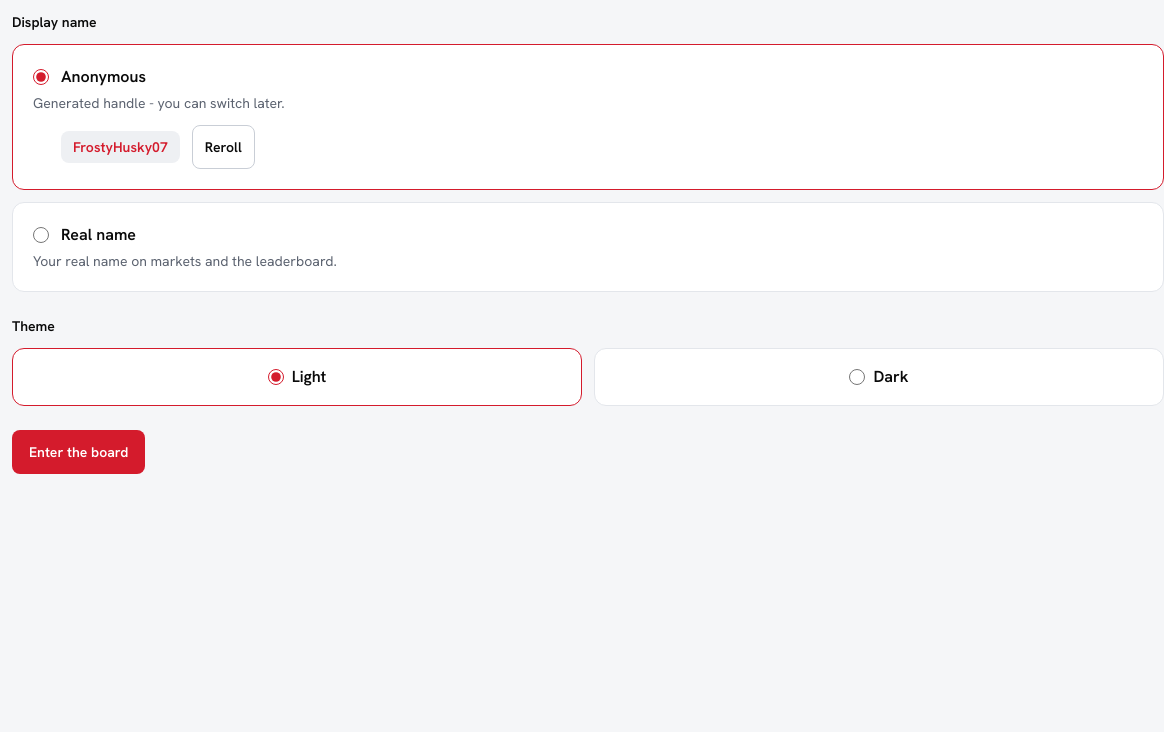
it: OnboardingForm › surfaces a server error and stays put
What coordinates should you click on to do the following:
click the button "Enter the board"
I would click on:
 (79, 452)
Its box is [12,430,145,474].
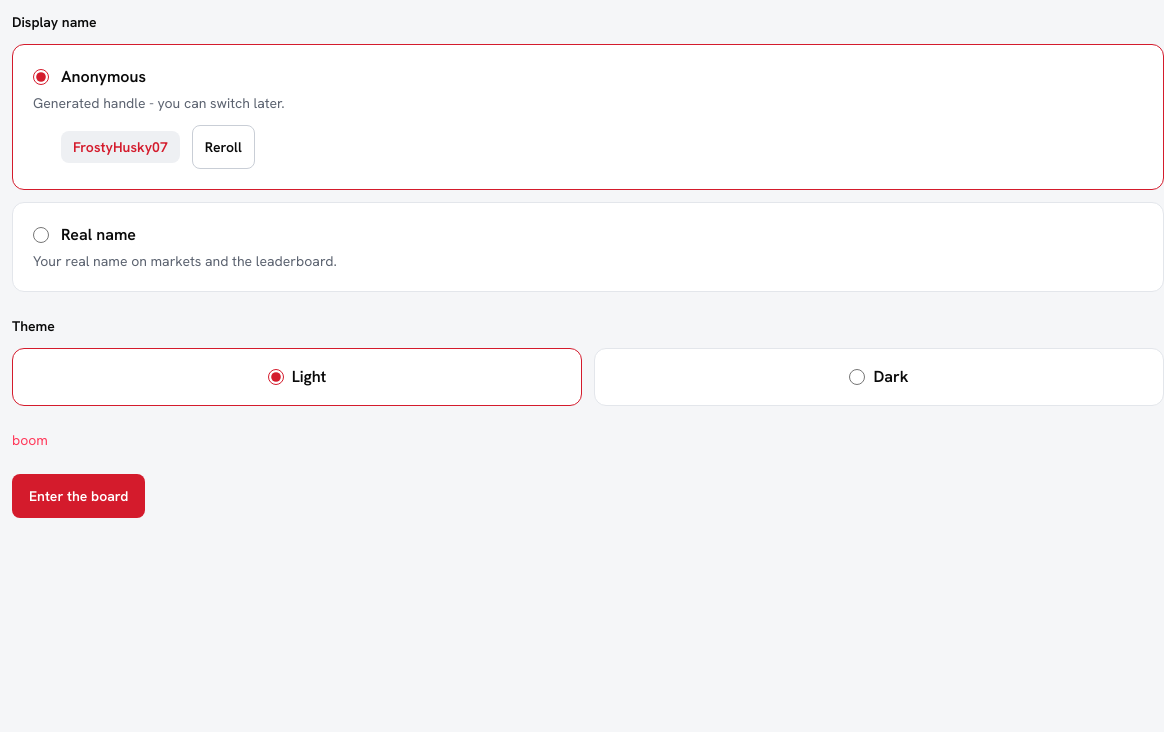
Result: the text "boom" is shown at [12,431,48,449]
